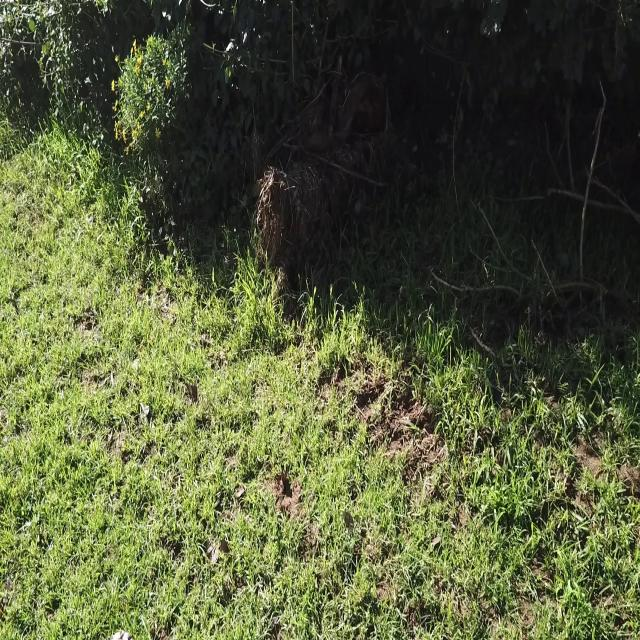Mysore-Thorn-Weed: (522, 0, 611, 88)
